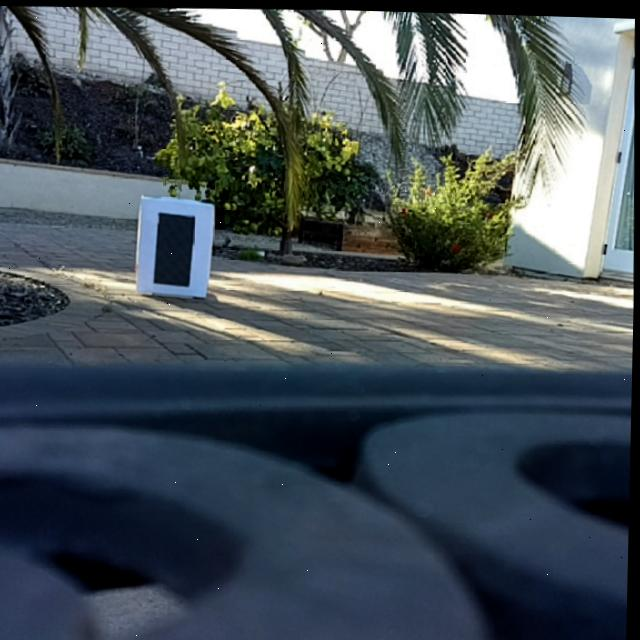led: (154, 208, 196, 287)
